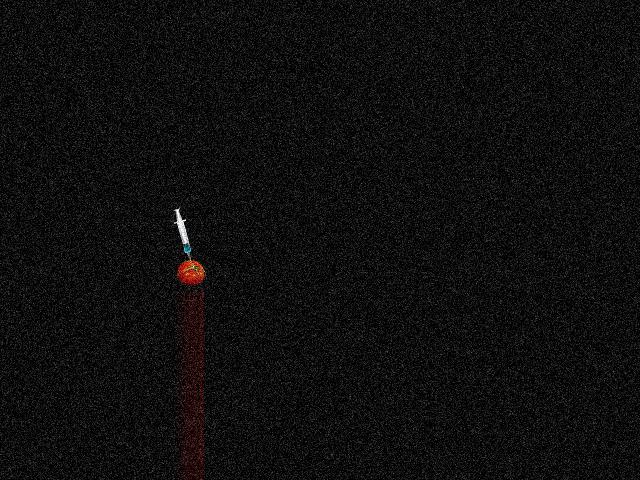tomato: (176, 260, 204, 285)
